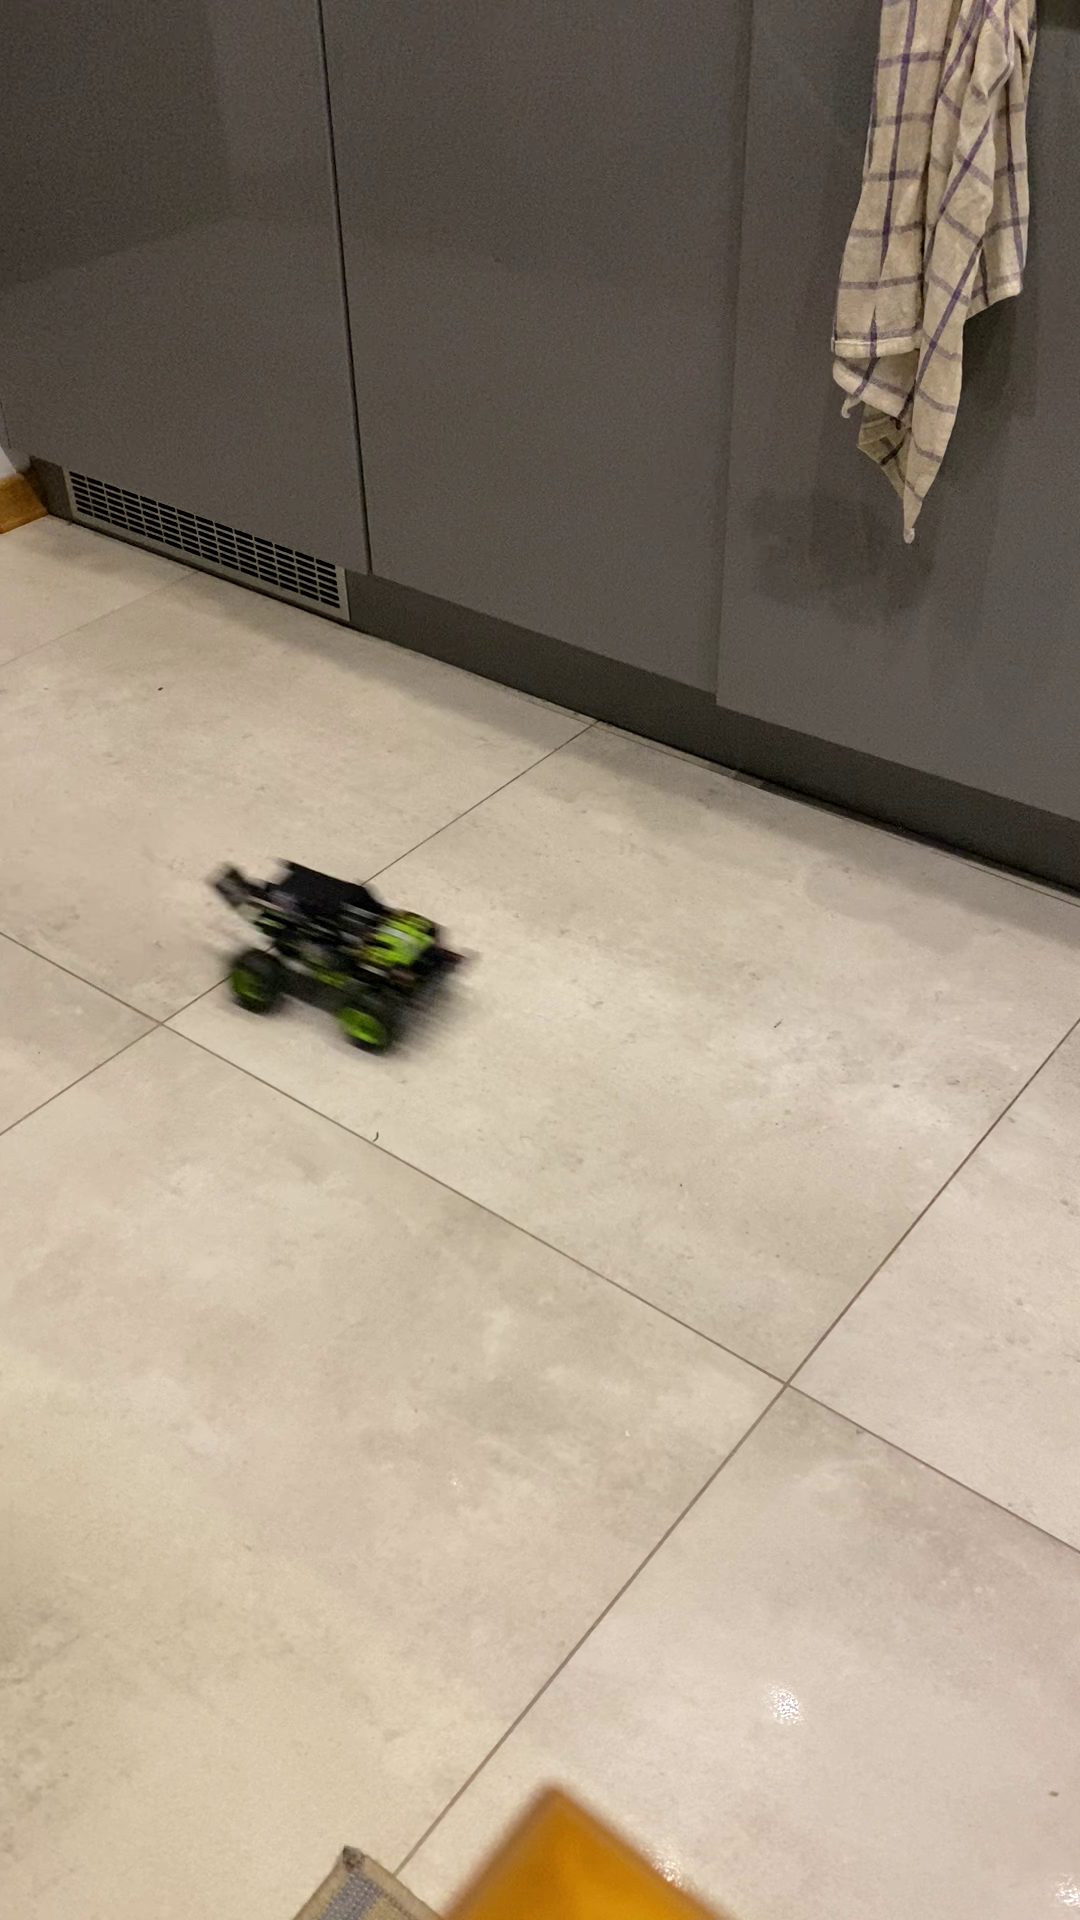car: (185, 847, 473, 1033)
